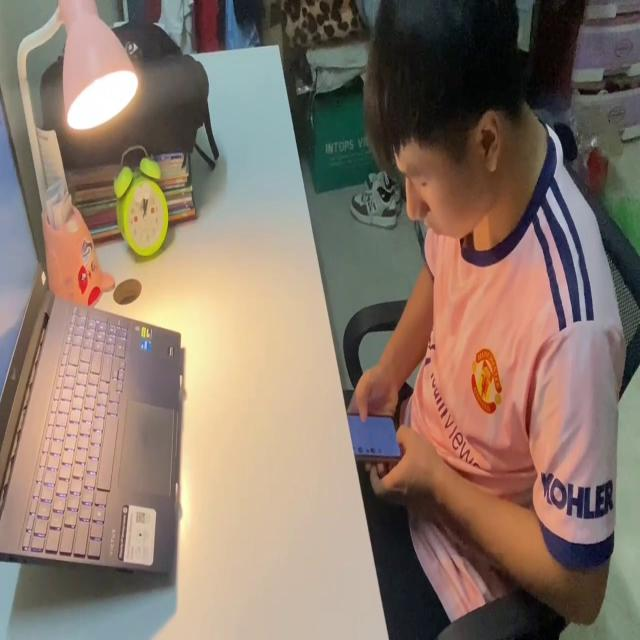laptop: (0, 88, 186, 585)
phone: (345, 406, 402, 463)
student: (347, 0, 625, 628)
